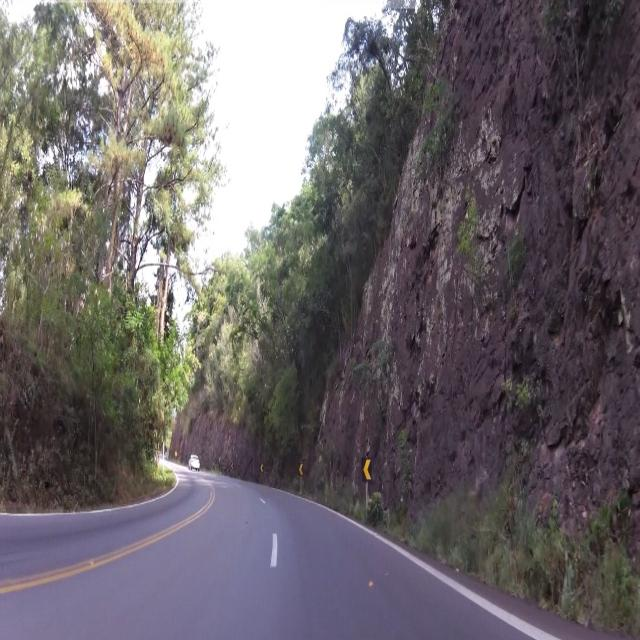Del: (360, 460, 372, 483), (300, 461, 305, 478)
